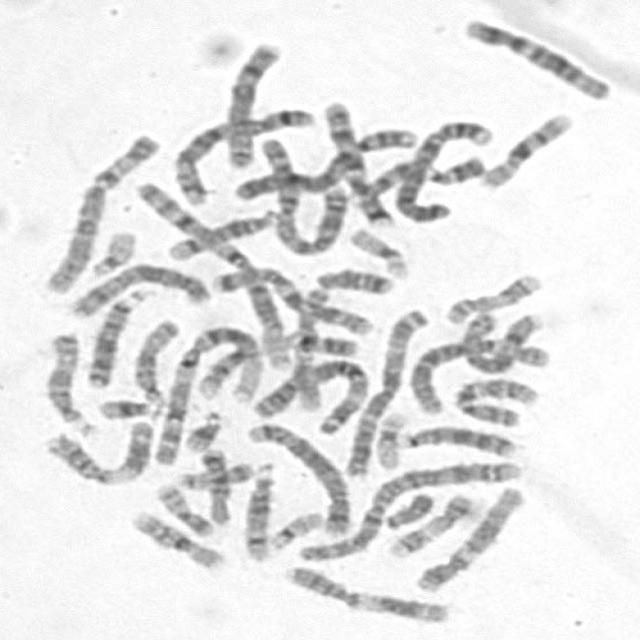A1: (123, 173, 296, 372), (145, 317, 267, 468)
A2: (289, 452, 527, 564), (250, 130, 349, 256)
A3: (336, 301, 434, 478), (241, 352, 373, 436)
B4: (224, 120, 422, 202), (382, 110, 498, 224)
B5: (164, 101, 318, 207), (240, 414, 355, 538)
C10: (286, 280, 332, 414), (443, 370, 542, 428)
C11: (276, 558, 452, 625), (34, 413, 158, 488)
C12: (454, 10, 614, 103), (406, 478, 528, 594)
C6: (35, 126, 162, 295), (403, 328, 549, 417)
C7: (205, 262, 378, 338), (316, 92, 396, 228)
C8: (215, 34, 286, 171), (454, 304, 549, 374)
C9: (199, 338, 365, 398), (335, 148, 490, 206)
D13: (76, 280, 152, 390), (391, 418, 520, 459)
D14: (159, 202, 281, 262), (235, 456, 278, 563)
D15: (37, 324, 95, 436), (125, 312, 182, 406)
E16: (469, 105, 576, 191), (123, 503, 227, 572)
E17: (378, 487, 480, 559), (436, 264, 546, 326)
E18: (192, 439, 234, 526), (308, 260, 398, 296)
F19: (341, 220, 412, 280), (367, 404, 409, 472)
F20: (147, 475, 217, 537), (170, 454, 256, 490)
G21: (176, 404, 226, 454), (88, 392, 166, 422)
G22: (81, 222, 140, 278), (262, 503, 326, 550)
X: (60, 256, 214, 320)
Y: (377, 486, 436, 531)
